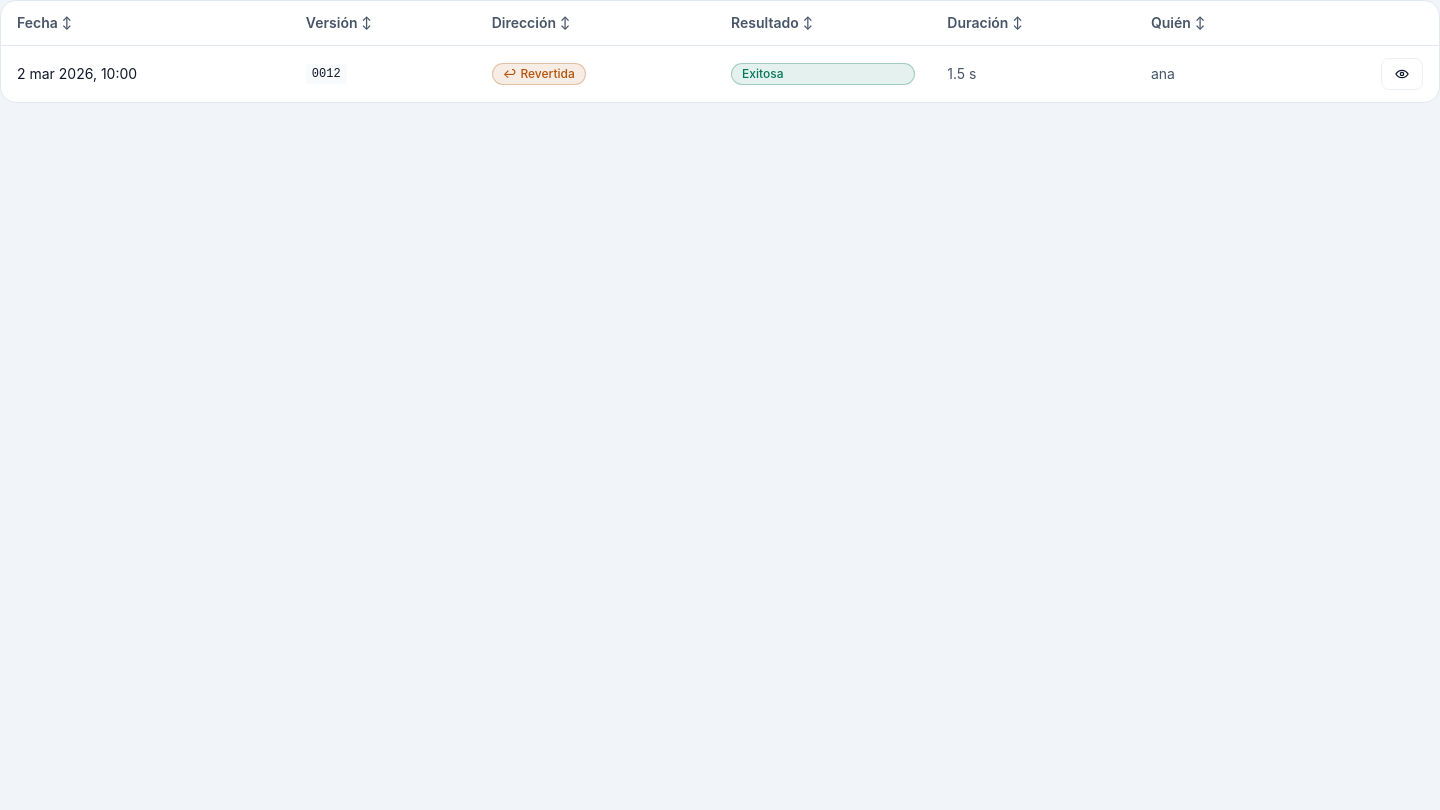
Scenario: MigrationHistoryPanel › ofrece copiar el ID de solicitud cuando la fila lo trae
Click the button named "Ver detalle".
click(1402, 74)  # box left=1381, top=58, right=1423, bottom=90
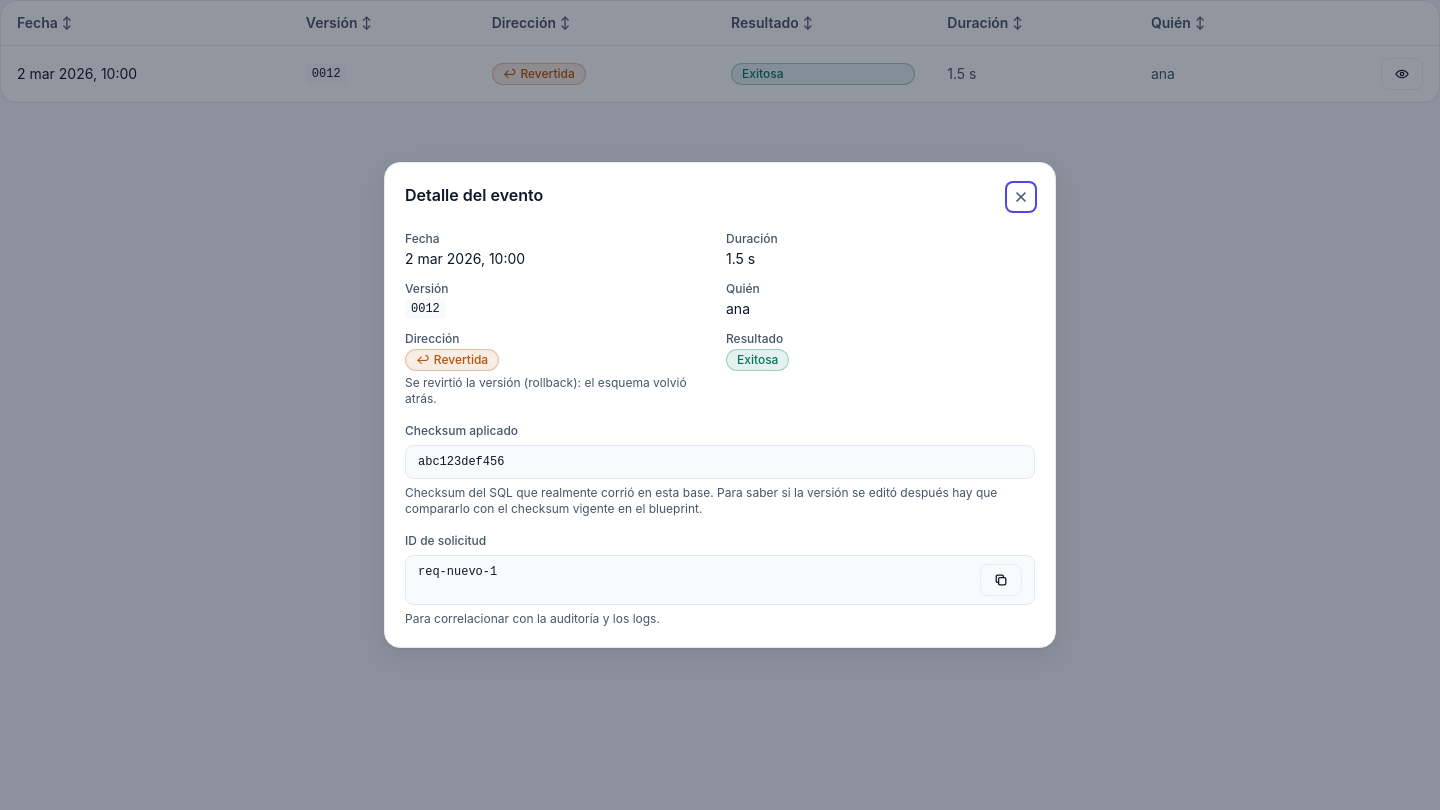
Expected: the text "req-nuevo-1" is shown, left=418, top=565, right=497, bottom=579
Expected: the button named "Copiar ID de solicitud" is shown, left=980, top=564, right=1022, bottom=596
Expected: the text "abc123def456" is shown, left=405, top=445, right=1035, bottom=479
